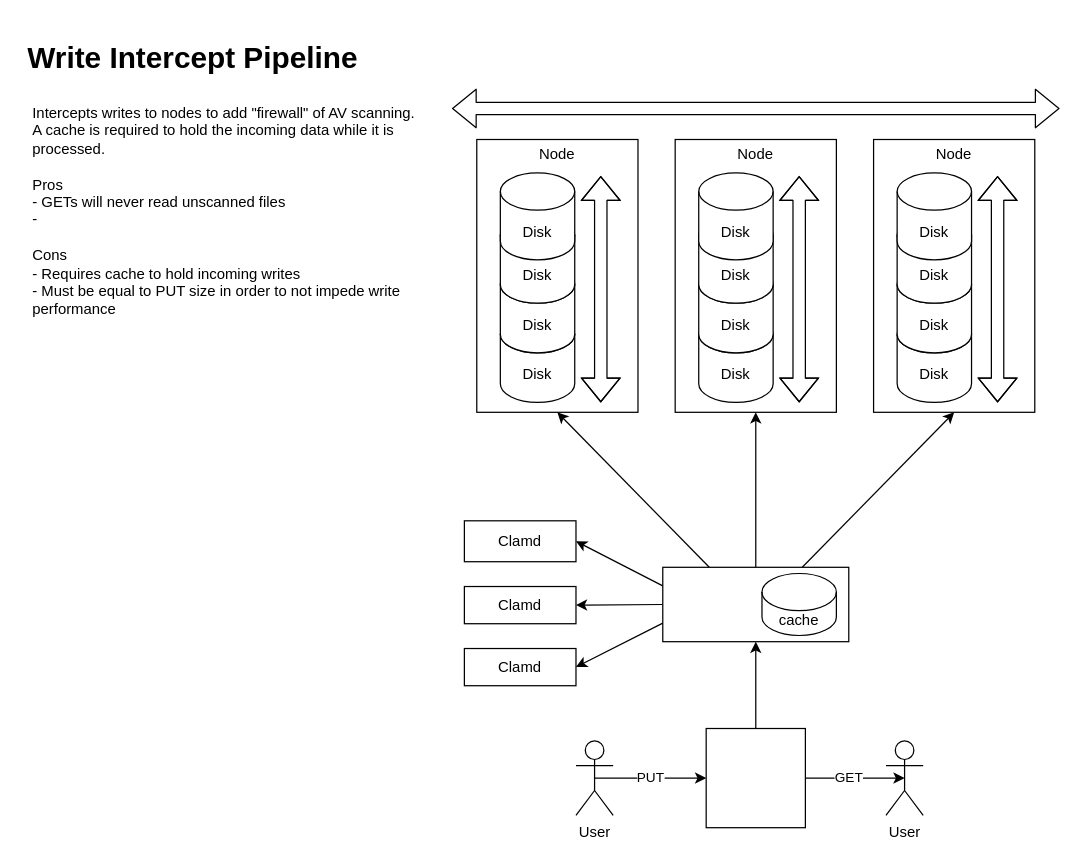
The diagram is 1080 pixels wide and 862 high, and some of its shapes have lost their labels. The box of each missing label's shape, as (x1, y1, x2, y2) in pixels:
Aegis: (662, 566, 849, 642)
MinIO Server: (705, 727, 805, 828)
